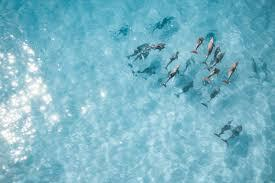Animal: (221, 122, 244, 146), (203, 35, 218, 66), (162, 63, 181, 87), (201, 86, 220, 110), (161, 51, 181, 72), (215, 117, 234, 139), (223, 61, 238, 87), (175, 78, 193, 98), (206, 51, 226, 69), (189, 35, 206, 56), (203, 66, 220, 84), (130, 41, 146, 59), (149, 39, 167, 52)
